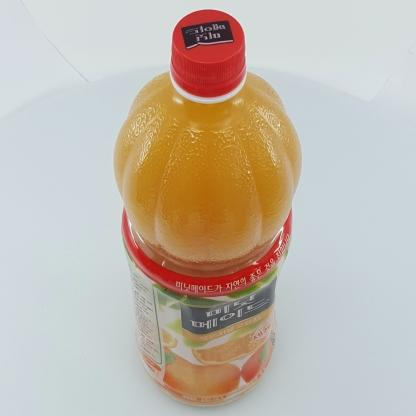------------1-5L: (113, 9, 302, 407)
